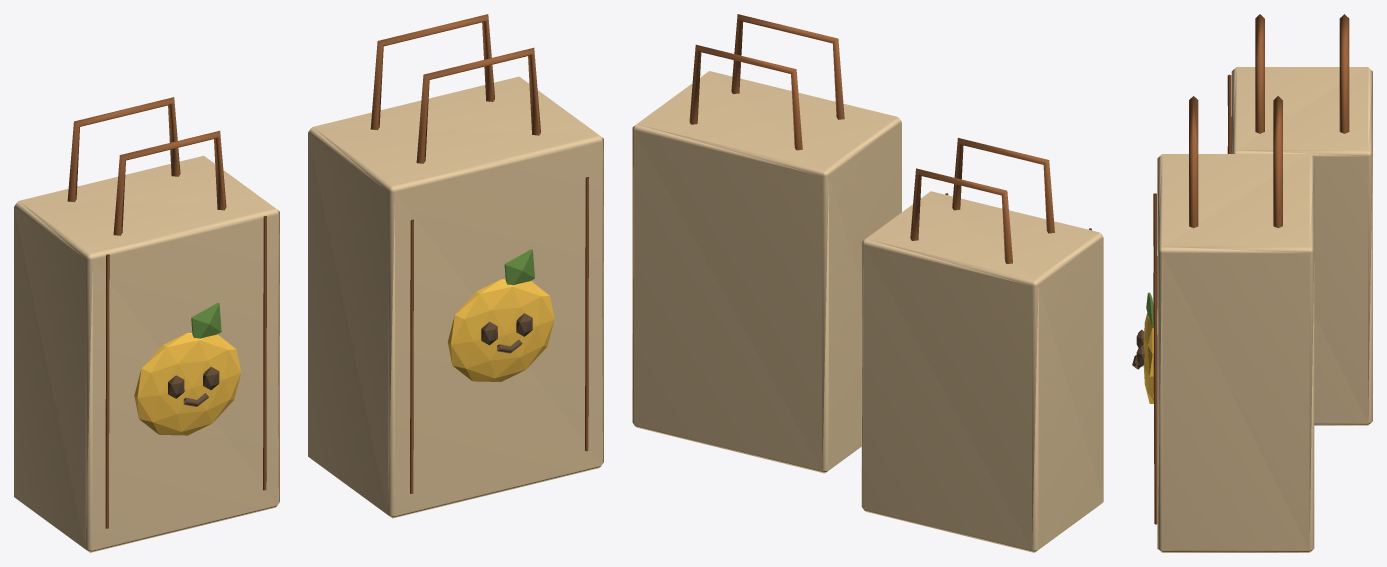
The model's file is takeout_bags.fbx.
The picture shows the model from 3 angles, left to right: view 1: azimuth 30°, elevation 25°; view 2: azimuth 150°, elevation 25°; view 3: azimuth 270°, elevation 25°; orthographic projection. The views are drawn at different scales.
Parts seen in each view (by area): view 1: takeout_bags; view 2: takeout_bags; view 3: takeout_bags.
Boxes of the visible parts, x1,y1,x2,y2 form: takeout_bags: (14,14,603,552); takeout_bags: (632,14,1103,552); takeout_bags: (1132,14,1372,552).
Bounding box in the file's own units: 42.05 × 35.29 × 19.95.
